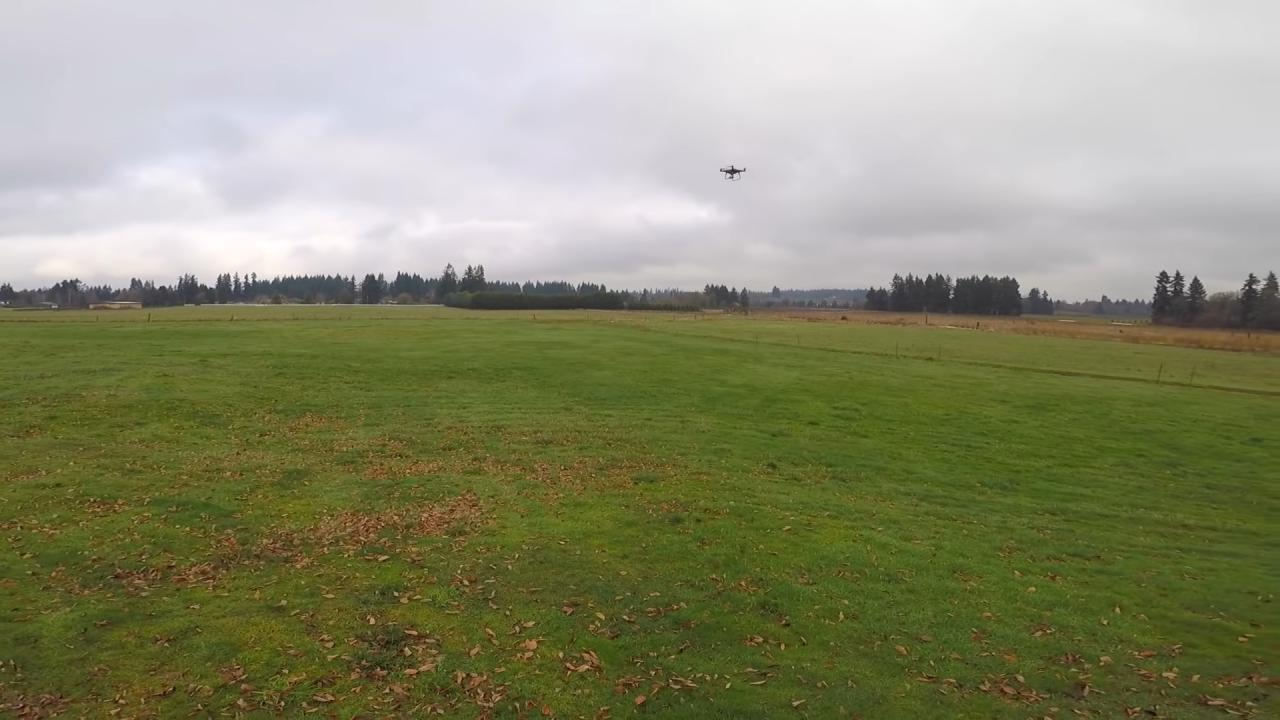Drone: (709, 158, 759, 190)
